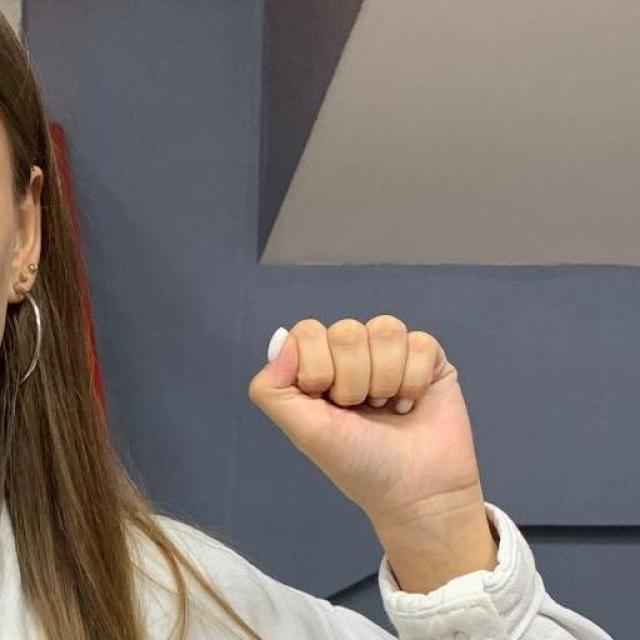hand: (247, 312, 498, 594)
